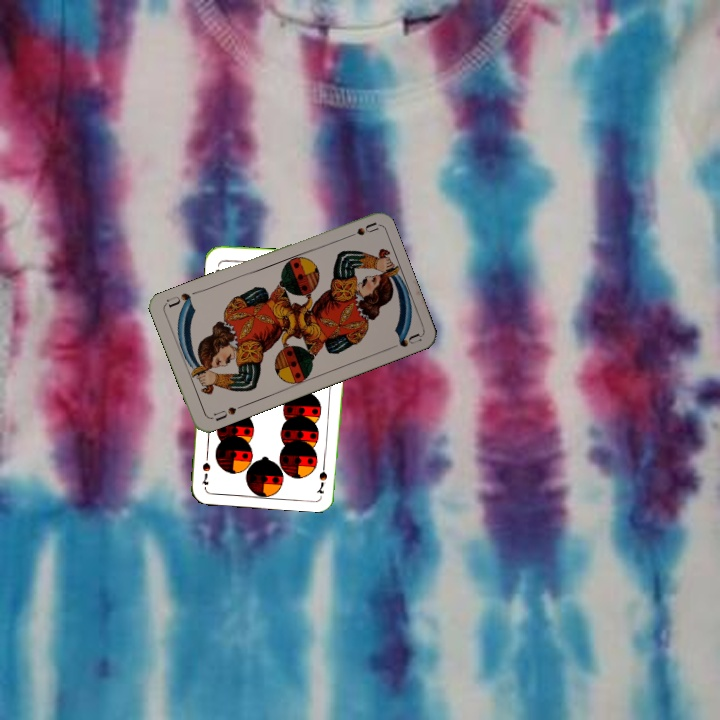S7: (314, 455, 330, 496)
SU: (339, 218, 379, 242), (210, 401, 246, 424)
